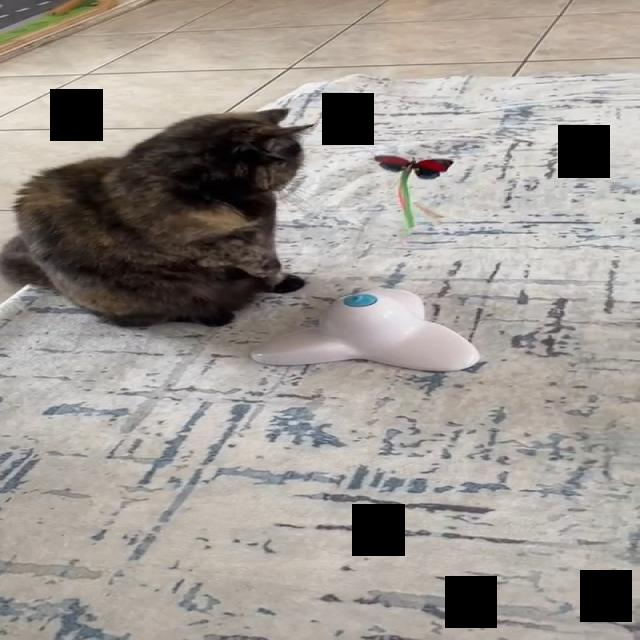authorized: (0, 107, 316, 328)
